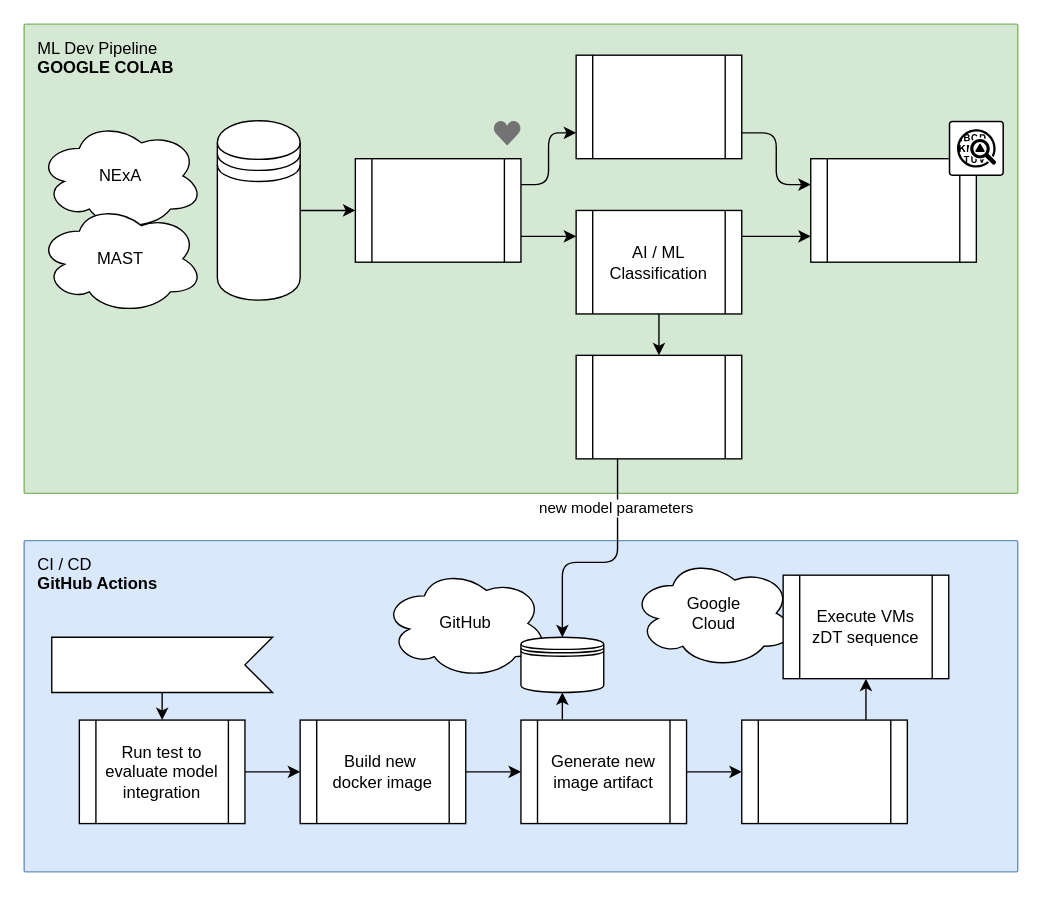
This 1042x897 diagram has some shape labels left out. Each missing label, with the centre of its shape:
Classic methodology: (658,106)
Combined post-op: (892,209)
Data transformation: (437,209)
new tag: (161,664)
TensorFlowJS conversion: (658,406)
Trigger deploy sequence w/ ID: (823,771)
